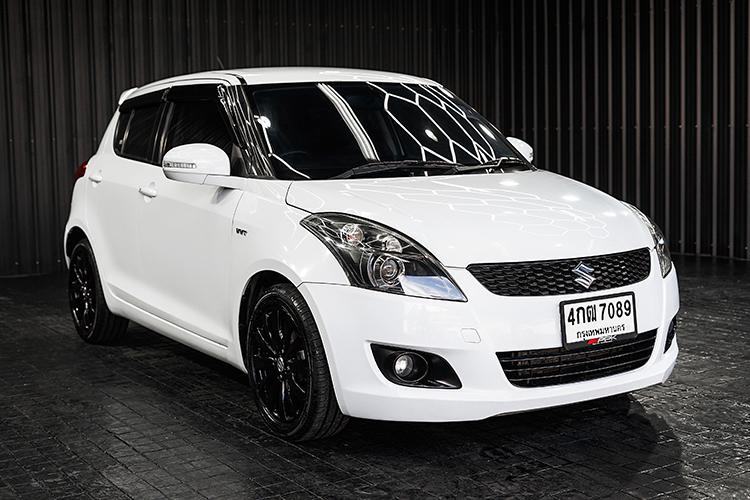license-plate: (557, 291, 639, 350)
